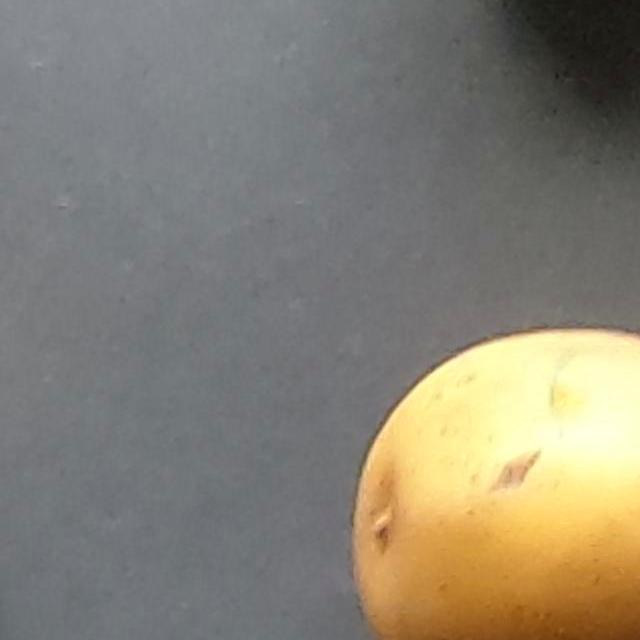potato: (252, 216, 640, 640)
